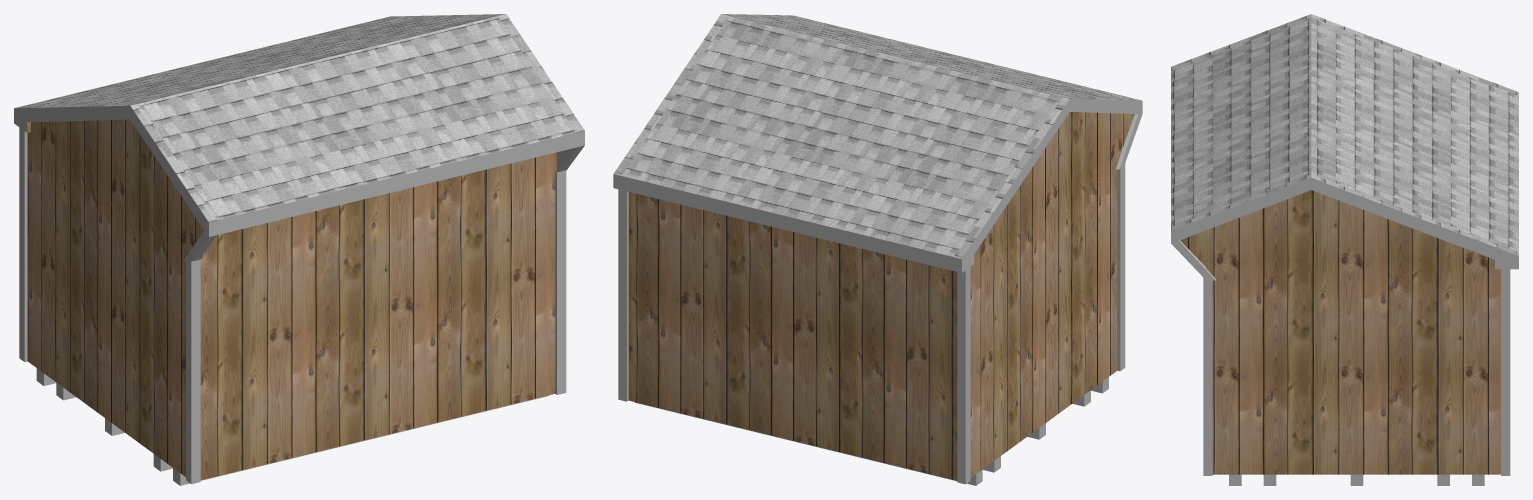
The model's file is Quaker Sheds_8x10.obj.
The picture shows the model from 3 angles, left to right: view 1: azimuth 30°, elevation 25°; view 2: azimuth 150°, elevation 25°; view 3: azimuth 270°, elevation 25°; orthographic projection. The views are drawn at different scales.
Parts seen in each view (by area): view 1: Shed, Roof, Sides, Trim, Floor; view 2: Shed, Roof, Sides, Trim, Floor; view 3: Shed, Roof, Sides, Trim, Floor.
Boxes of the visible parts, x1,y1,x2,y2 form: Shed: (27,119,556,480); Roof: (14,14,584,222); Sides: (14,105,584,263); Trim: (19,127,566,484); Floor: (36,368,548,485); Shed: (628,112,1134,480); Roof: (613,14,1141,258); Sides: (613,99,1142,272); Trim: (618,163,1125,484); Floor: (634,377,1108,485); Shed: (1180,190,1500,474); Roof: (1171,14,1518,255); Sides: (1171,178,1518,280); Trim: (1203,269,1510,475); Floor: (1229,474,1484,485).
Bounding box in the file's own units: 3.11 × 2.74 × 2.79.
